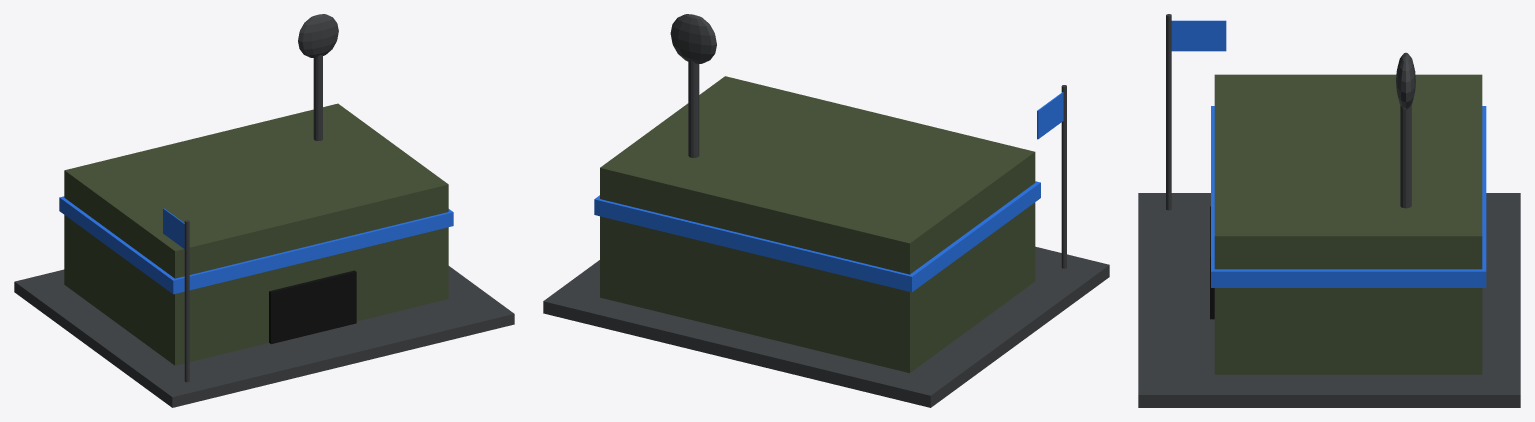
Rendered from kp_barracks.glb.
3 views of the same model, side by side, from view 1: azimuth 30°, elevation 25°; view 2: azimuth 150°, elevation 25°; view 3: azimuth 270°, elevation 25° (orthographic). The views are drawn at different scales.
Visible parts, largest first — view 1: main, base, team_band, door, dish, flagpole, mast, flag; view 2: main, base, team_band, dish, mast, flagpole, flag; view 3: main, base, team_band, flag, mast, flagpole, dish.
Boxes of the visible parts, left/top/right/bottom form: main: left=64, top=103, right=448, bottom=365; base: left=14, top=266, right=514, bottom=407; team_band: left=59, top=196, right=453, bottom=294; door: left=269, top=270, right=356, bottom=344; dish: left=298, top=14, right=338, bottom=57; flagpole: left=184, top=220, right=189, bottom=382; mast: left=313, top=55, right=322, bottom=140; flag: left=163, top=208, right=184, bottom=248; main: left=600, top=76, right=1035, bottom=373; base: left=543, top=246, right=1109, bottom=407; team_band: left=594, top=181, right=1040, bottom=292; dish: left=670, top=14, right=716, bottom=63; mast: left=688, top=60, right=699, bottom=157; flagpole: left=1061, top=85, right=1066, bottom=268; flag: left=1037, top=92, right=1063, bottom=139; main: left=1214, top=74, right=1482, bottom=374; base: left=1138, top=193, right=1520, bottom=407; team_band: left=1211, top=106, right=1486, bottom=287; flag: left=1171, top=20, right=1226, bottom=51; mast: left=1400, top=105, right=1411, bottom=208; flagpole: left=1166, top=14, right=1171, bottom=210; dish: left=1396, top=52, right=1415, bottom=109.
Bounding box in the file's own units: 10 × 6.98 × 8.
